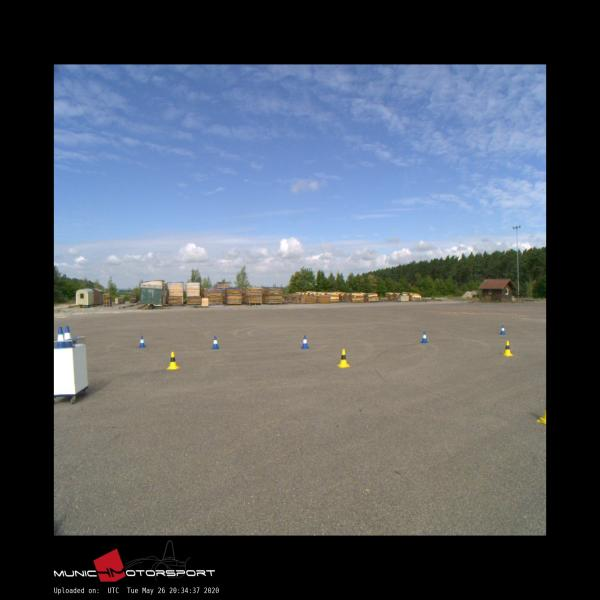blue_cone: (62, 326, 73, 347), (56, 327, 66, 348), (301, 334, 308, 349), (212, 336, 219, 349), (139, 336, 145, 347), (421, 332, 427, 342), (500, 325, 505, 334)
yellow_cone: (336, 349, 350, 367), (167, 352, 179, 369), (502, 341, 513, 355)
